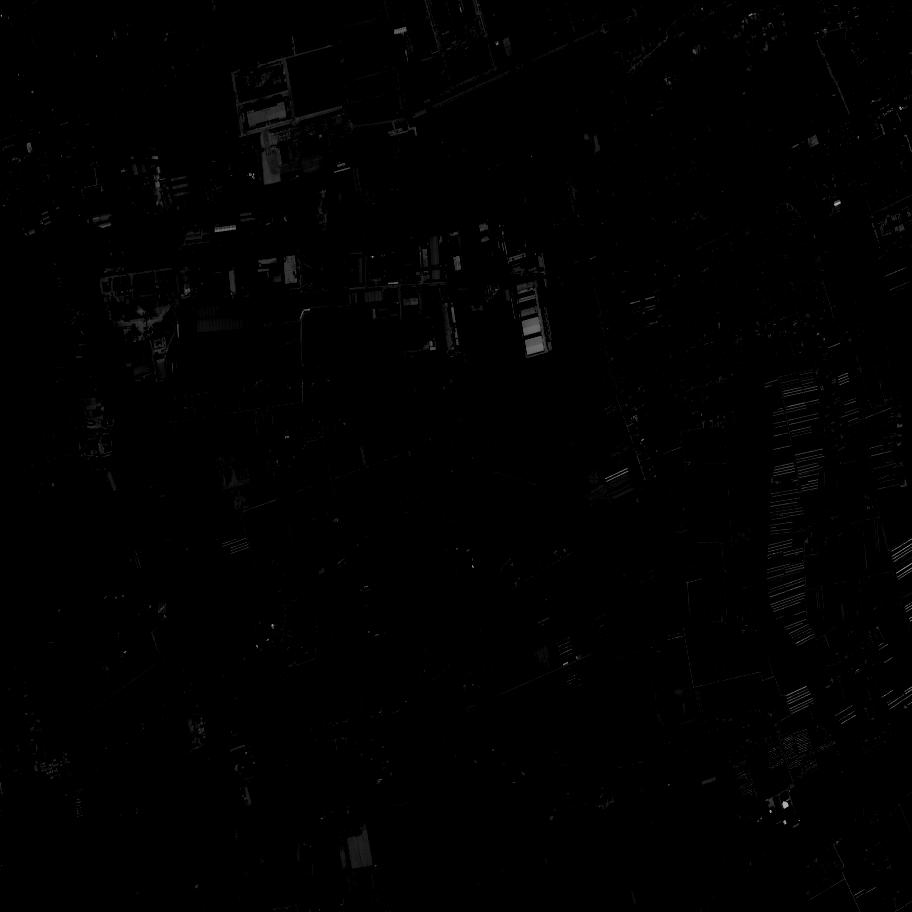ship: (900, 748, 909, 759), (158, 604, 168, 613), (102, 384, 108, 397), (103, 385, 110, 396), (851, 799, 860, 806), (153, 596, 163, 602), (110, 431, 116, 441), (785, 861, 792, 868), (218, 763, 222, 775), (111, 417, 115, 427), (182, 363, 186, 372), (177, 352, 181, 361), (108, 400, 111, 411), (313, 185, 321, 189), (112, 417, 115, 427), (106, 319, 108, 333), (181, 363, 184, 371), (109, 418, 113, 424), (182, 353, 184, 361), (322, 186, 330, 188), (306, 190, 314, 192), (303, 188, 311, 190), (237, 799, 238, 813), (105, 399, 106, 411), (108, 384, 109, 396), (180, 353, 181, 362), (178, 364, 179, 372), (176, 365, 177, 373), (180, 352, 181, 360), (179, 366, 180, 373), (174, 366, 175, 373), (99, 301, 100, 306), (248, 849, 249, 853), (173, 363, 173, 367), (119, 471, 120, 471)
storage-tank: (253, 179, 255, 182), (252, 173, 253, 176), (252, 176, 254, 177), (249, 174, 250, 175)
